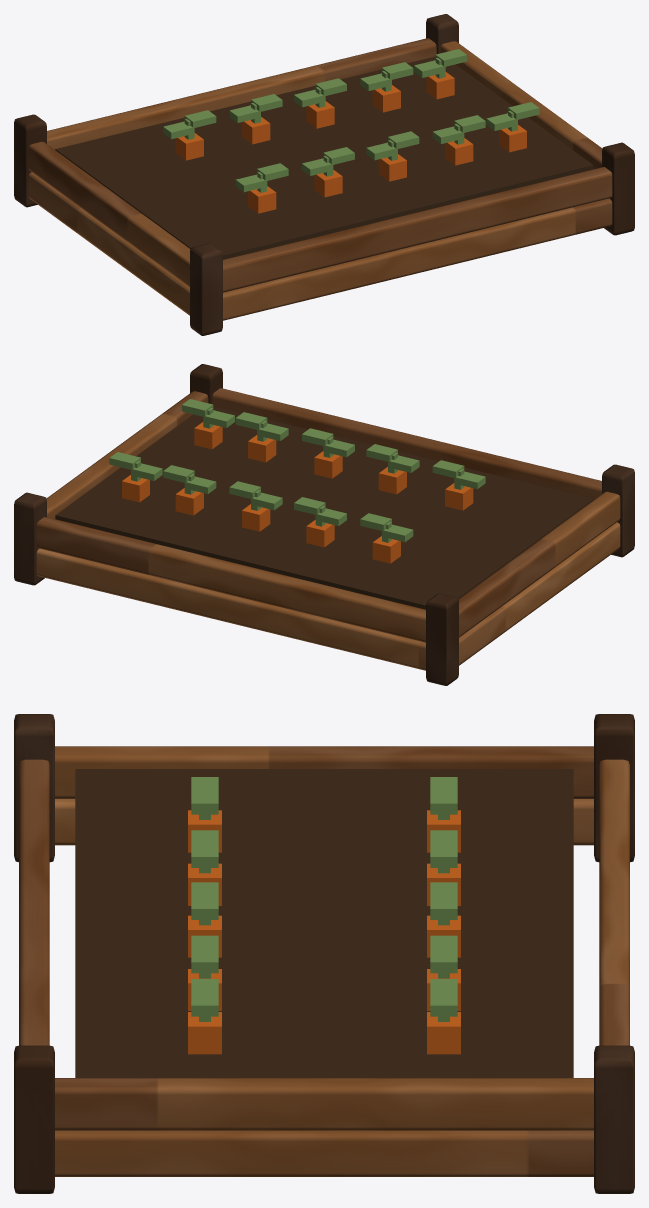
Rendered from farm_bed_grown.glb.
The picture shows the model from 3 angles, top to bottom: view 1: azimuth 30°, elevation 25°; view 2: azimuth 150°, elevation 25°; view 3: azimuth 270°, elevation 25°; orthographic projection. The views are drawn at different scales.
Visible parts, largest first — view 1: Soil_Surface, Frame_Front.001, Frame_Front, Frame_Back.001, Frame_Left.001, Frame_Left, Frame_Right.001, Frame_CornerPost.001, Frame_CornerPost.003, Frame_CornerPost, Frame_CornerPost.002, Plants_CarrotTop.001 (+9 smaller); view 2: Soil_Surface, Frame_Back.001, Frame_Back, Frame_Front.001, Frame_Left.001, Frame_Left, Frame_Right.001, Frame_CornerPost, Frame_CornerPost.002, Frame_CornerPost.001, Frame_CornerPost.003, Plants_CarrotTop (+9 smaller); view 3: Soil_Surface, Frame_Right.001, Frame_Right, Frame_Left.001, Frame_Back.001, Frame_Front.001, Frame_CornerPost.002, Frame_CornerPost.003, Frame_CornerPost, Frame_CornerPost.001, Frame_Left, Plants_CarrotTop.008 (+17 smaller).
Boxes of the visible parts, x1,y1,x2,y2 form: Soil_Surface: (55,56,593,259); Frame_Front.001: (223,167,612,292); Frame_Front: (223,198,612,320); Frame_Back.001: (47,38,436,149); Frame_Left.001: (28,141,190,287); Frame_Left: (28,172,189,315); Frame_Right.001: (440,41,602,168); Frame_CornerPost.001: (190,243,222,335); Frame_CornerPost.003: (602,142,634,235); Frame_CornerPost: (14,114,46,207); Frame_CornerPost.002: (426,14,458,53); Plants_CarrotTop.001: (248,186,276,213); Soil_Surface: (55,406,593,609); Frame_Back.001: (36,517,425,642); Frame_Back: (36,548,425,670); Frame_Front.001: (212,388,601,499); Frame_Left.001: (458,491,620,637); Frame_Left: (459,522,620,665); Frame_Right.001: (46,391,208,518); Frame_CornerPost: (426,593,458,685); Frame_CornerPost.002: (14,492,46,585); Frame_CornerPost.001: (602,464,634,557); Frame_CornerPost.003: (190,364,222,403); Plants_CarrotTop: (372,536,400,563); Soil_Surface: (75,769,573,1077); Frame_Right.001: (55,1078,593,1130); Frame_Right: (55,1130,593,1176); Frame_Left.001: (55,746,593,798); Frame_Back.001: (599,759,629,1045); Frame_Front.001: (19,759,49,1045); Frame_CornerPost.002: (594,1045,634,1193); Frame_CornerPost.003: (14,1045,54,1193); Frame_CornerPost: (594,714,634,862); Frame_CornerPost.001: (14,714,54,862); Frame_Left: (55,799,593,845); Plants_CarrotTop.008: (427,1012,460,1054).
Size of the model in its own units: 2.42 by 0.5075 by 1.82.
5 materials, 5 textured.
